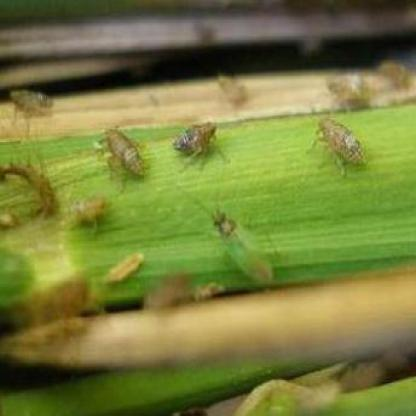brown-planthopper: (312, 119, 368, 170), (96, 127, 144, 176), (176, 122, 218, 154), (12, 86, 54, 114)
